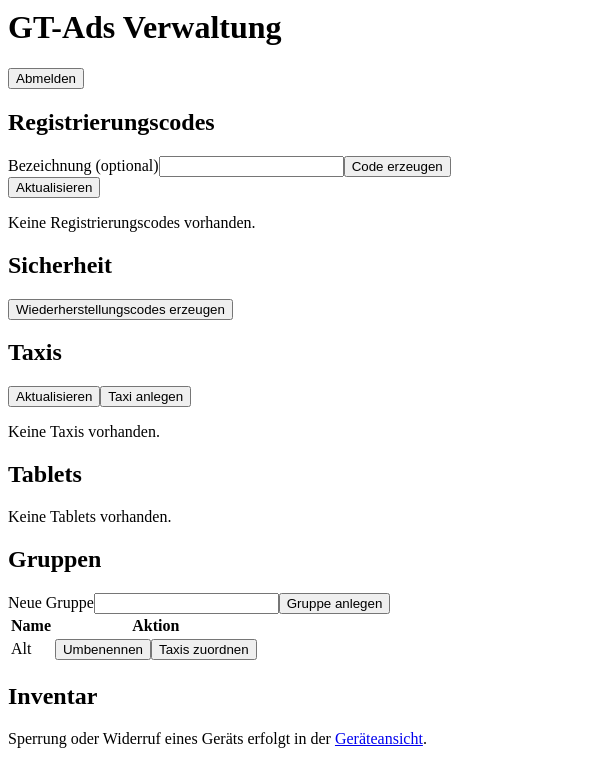
CX-136 Gruppenname im Dashboard aendern › sendet beim Abbrechen nichts und laesst bei 403 den bisherigen Namen unveraendert
The width and height of the screenshot is (613, 764).
Later steps or results of the test are not shown.
Expected: the text "Alt" is shown, x1=10 y1=638 x2=52 y2=661
Abbrechen hat keine Serverwirkung.
Click the button "Umbenennen".
click(103, 649)  # box x1=55 y1=639 x2=151 y2=660
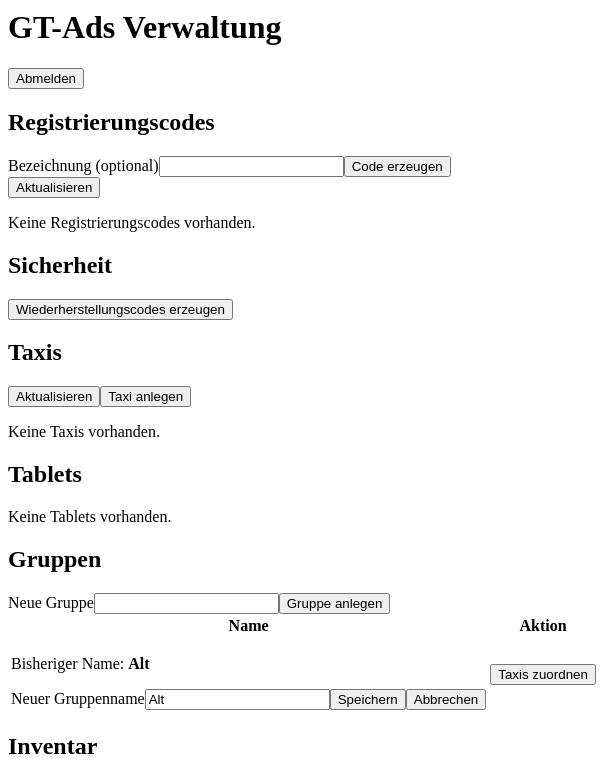
Replace the text in the field labelled "Neuer Gruppenname" with "Neu" at (237, 699), box x1=145 y1=689 x2=330 y2=710
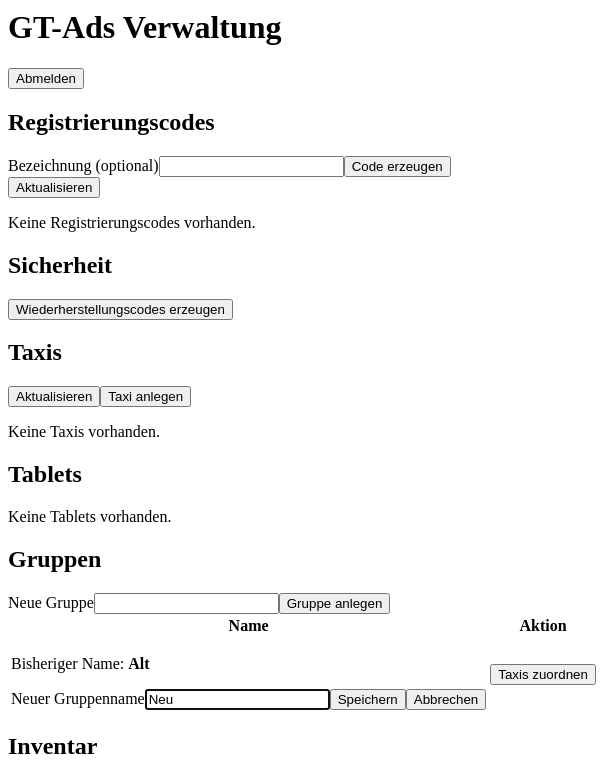
Click the button "Abbrechen".
click(446, 699)  # box x1=406 y1=689 x2=486 y2=710
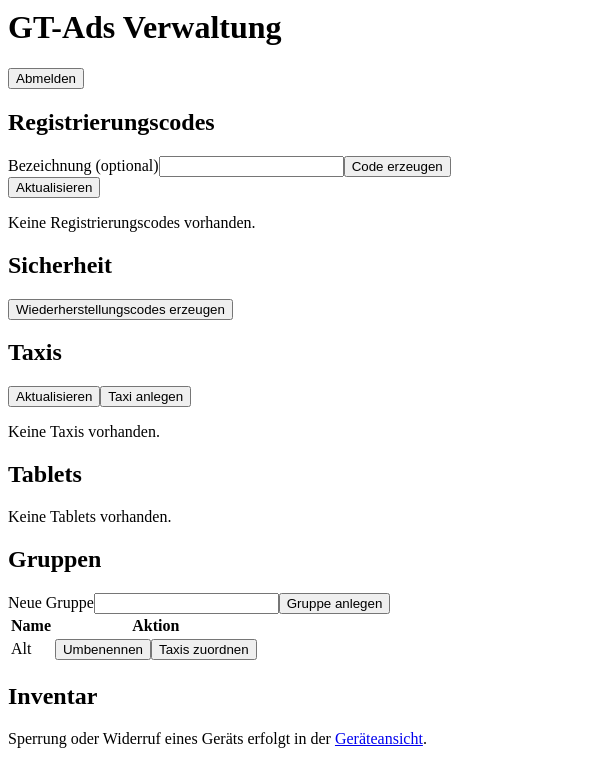
Expected: the text "Alt" is shown, x1=10 y1=638 x2=52 y2=661
Expected: the label labelled "Neuer Gruppenname" is gone
403: verstaendliche Meldung, bisheriger Name bleibt unveraendert.
Click the button "Umbenennen".
click(103, 649)  # box x1=55 y1=639 x2=151 y2=660
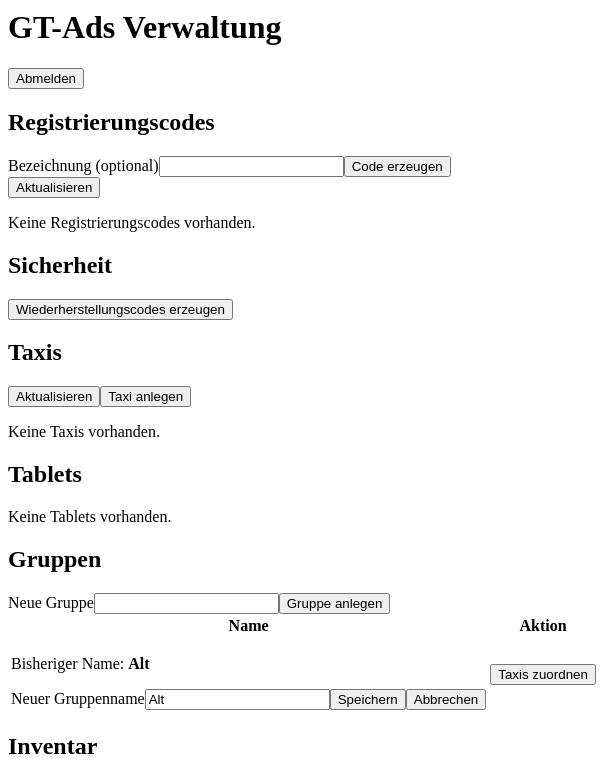
Replace the text in the field labelled "Neuer Gruppenname" with "Neu2" at (237, 699), box x1=145 y1=689 x2=330 y2=710
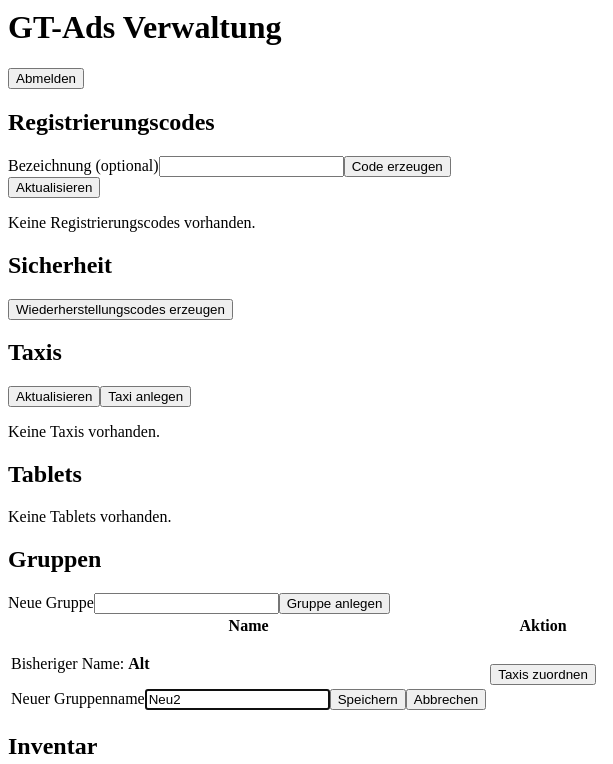
Click the button "Speichern".
click(368, 699)  # box x1=330 y1=689 x2=406 y2=710
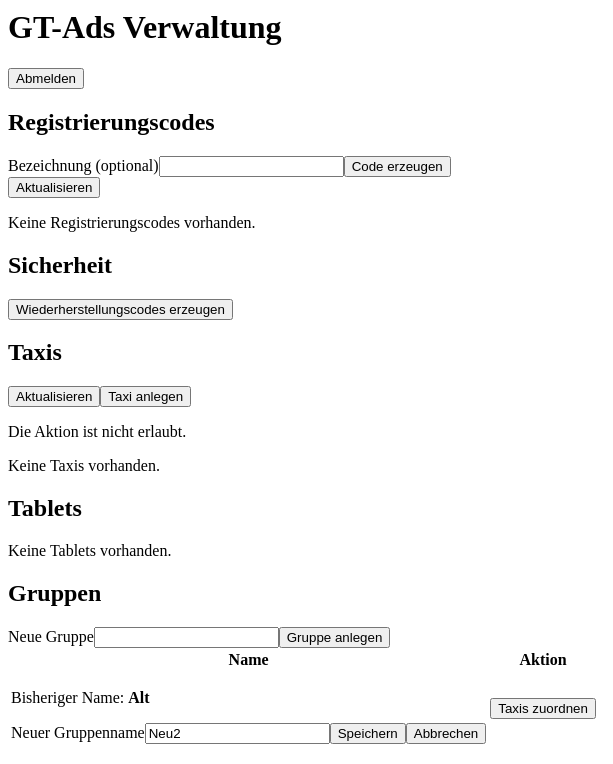
Expected: the text "Alt" is shown, x1=128 y1=689 x2=150 y2=706
Expected: the message reads "Die Aktion ist nicht erlaubt.", x1=8 y1=423 x2=186 y2=440
